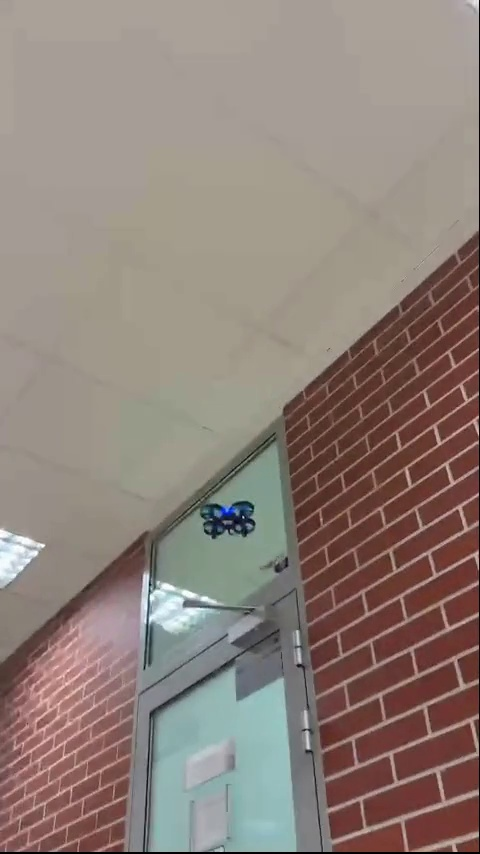drone: (204, 503, 262, 544)
